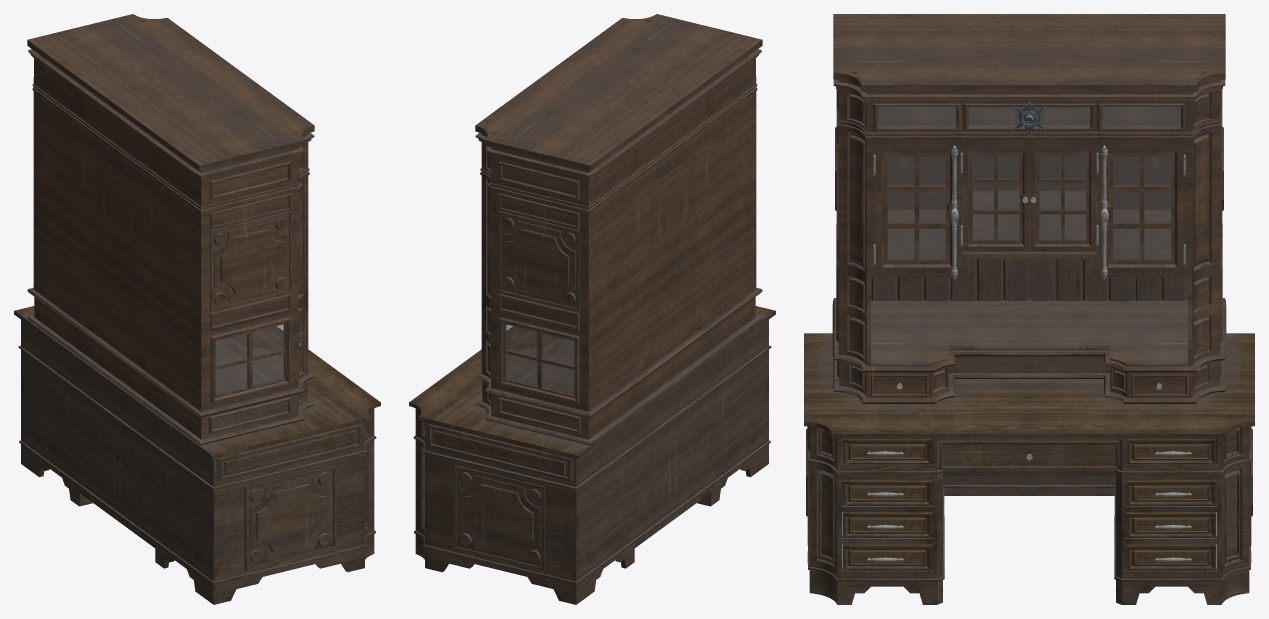
File: cupboard2.glb
3 renders of one model, left to right at view 1: azimuth 30°, elevation 25°; view 2: azimuth 150°, elevation 25°; view 3: azimuth 270°, elevation 25°, orthographic. The views are drawn at different scales.
Visible parts, largest first — view 1: object 3, tabledown_low, object 37, Plane.010; view 2: object 3, tabledown_low, object 37, Plane.009; view 3: object 3, tabledown_low, object 37, object 35, object 36, object 2, Plane.002, Plane.003, object 12, object 13, object 14, object 11 (+10 smaller).
Part boxes in pixels (<box>): object 3: <box>27,14,314,410</box>; tabledown_low: <box>14,306,380,604</box>; object 37: <box>27,287,314,445</box>; Plane.010: <box>215,324,284,394</box>; object 3: <box>475,14,762,410</box>; tabledown_low: <box>409,306,775,604</box>; object 37: <box>475,287,762,445</box>; Plane.009: <box>505,324,574,394</box>; object 3: <box>833,14,1225,364</box>; tabledown_low: <box>804,333,1254,604</box>; object 37: <box>832,298,1226,403</box>; object 35: <box>1101,146,1183,273</box>; object 36: <box>875,146,957,273</box>; object 2: <box>939,440,1119,469</box>; Plane.002: <box>1113,156,1171,259</box>; Plane.003: <box>887,156,945,259</box>; object 12: <box>842,544,1216,570</box>; object 13: <box>842,480,1216,505</box>; object 14: <box>842,512,1216,537</box>; object 11: <box>843,439,1215,464</box>.
Bounding box in the file's own units: 132 × 301 × 249.
3 materials, 3 textured.
